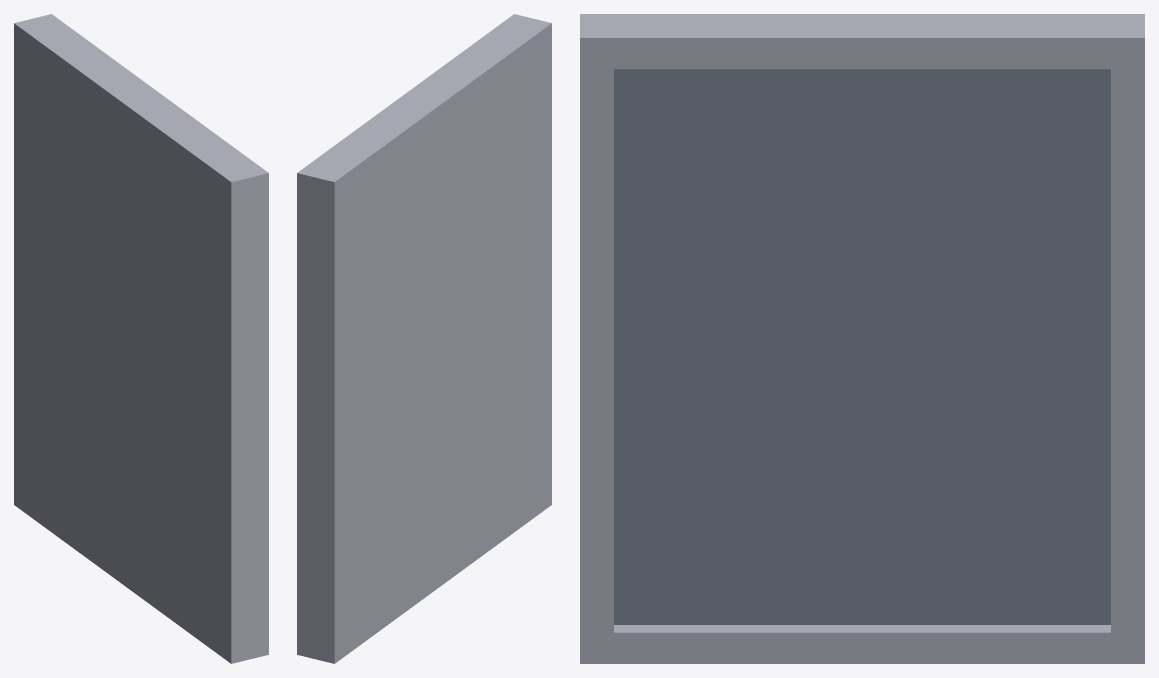
Rendered from Cadre.fbx.
The picture shows the model from 3 angles, left to right: view 1: azimuth 30°, elevation 25°; view 2: azimuth 150°, elevation 25°; view 3: azimuth 270°, elevation 25°; orthographic projection. The views are drawn at different scales.
Visible parts, largest first — view 1: Cadre; view 2: Cadre; view 3: Cadre.
Part boxes in pixels (bbox=[...]): Cadre: bbox=[14, 14, 268, 663]; Cadre: bbox=[297, 14, 551, 663]; Cadre: bbox=[580, 14, 1144, 663].
Size of the model in its own units: 15.94 by 195 by 159.
